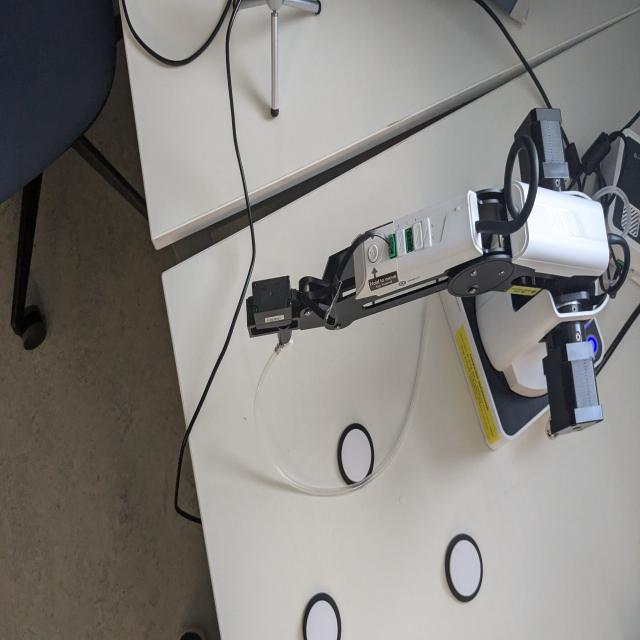Robot-end-effector-HF8z: (244, 273, 302, 362)
